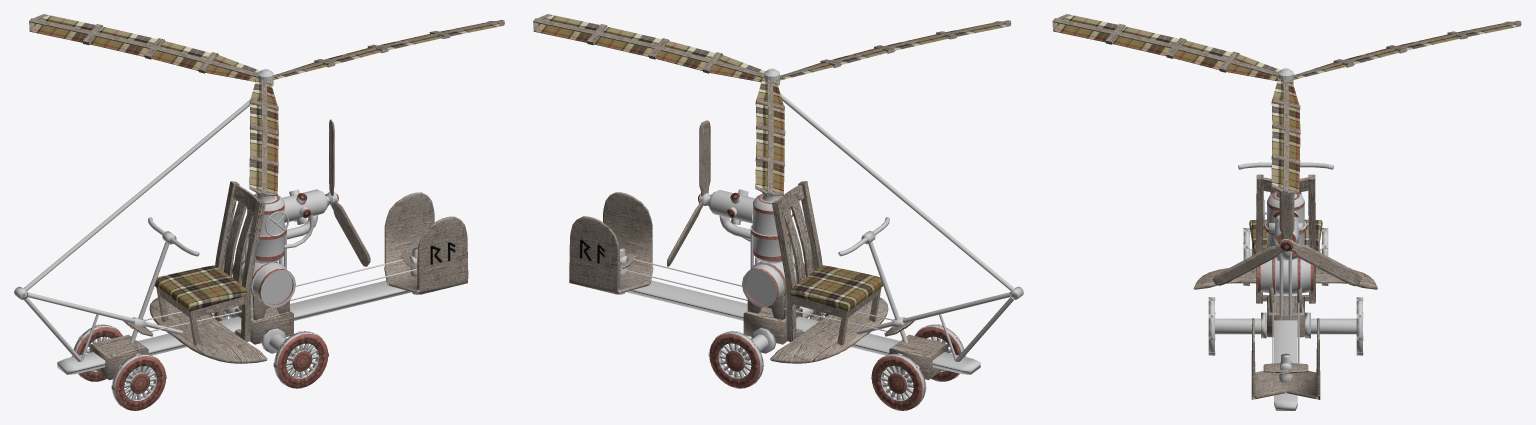
Rendered from gyrocopter2.FBX.
3 views of the same model, side by side, from view 1: azimuth 30°, elevation 25°; view 2: azimuth 150°, elevation 25°; view 3: azimuth 270°, elevation 25° (orthographic).
Visible parts, largest first — view 1: gyrocopter, propeller01, propeller02; view 2: gyrocopter, propeller01, propeller02; view 3: gyrocopter, propeller01, propeller02.
Part boxes in pixels (<box>): gyrocopter: <box>14,100,468,410</box>; propeller01: <box>29,14,504,196</box>; propeller02: <box>325,119,370,266</box>; gyrocopter: <box>569,93,1023,410</box>; propeller01: <box>533,14,1011,196</box>; propeller02: <box>667,120,711,266</box>; gyrocopter: <box>1193,162,1377,410</box>; propeller01: <box>1052,14,1521,194</box>; propeller02: <box>1212,191,1362,286</box>.
Bounding box in the file's own units: 236 × 134 × 200.
